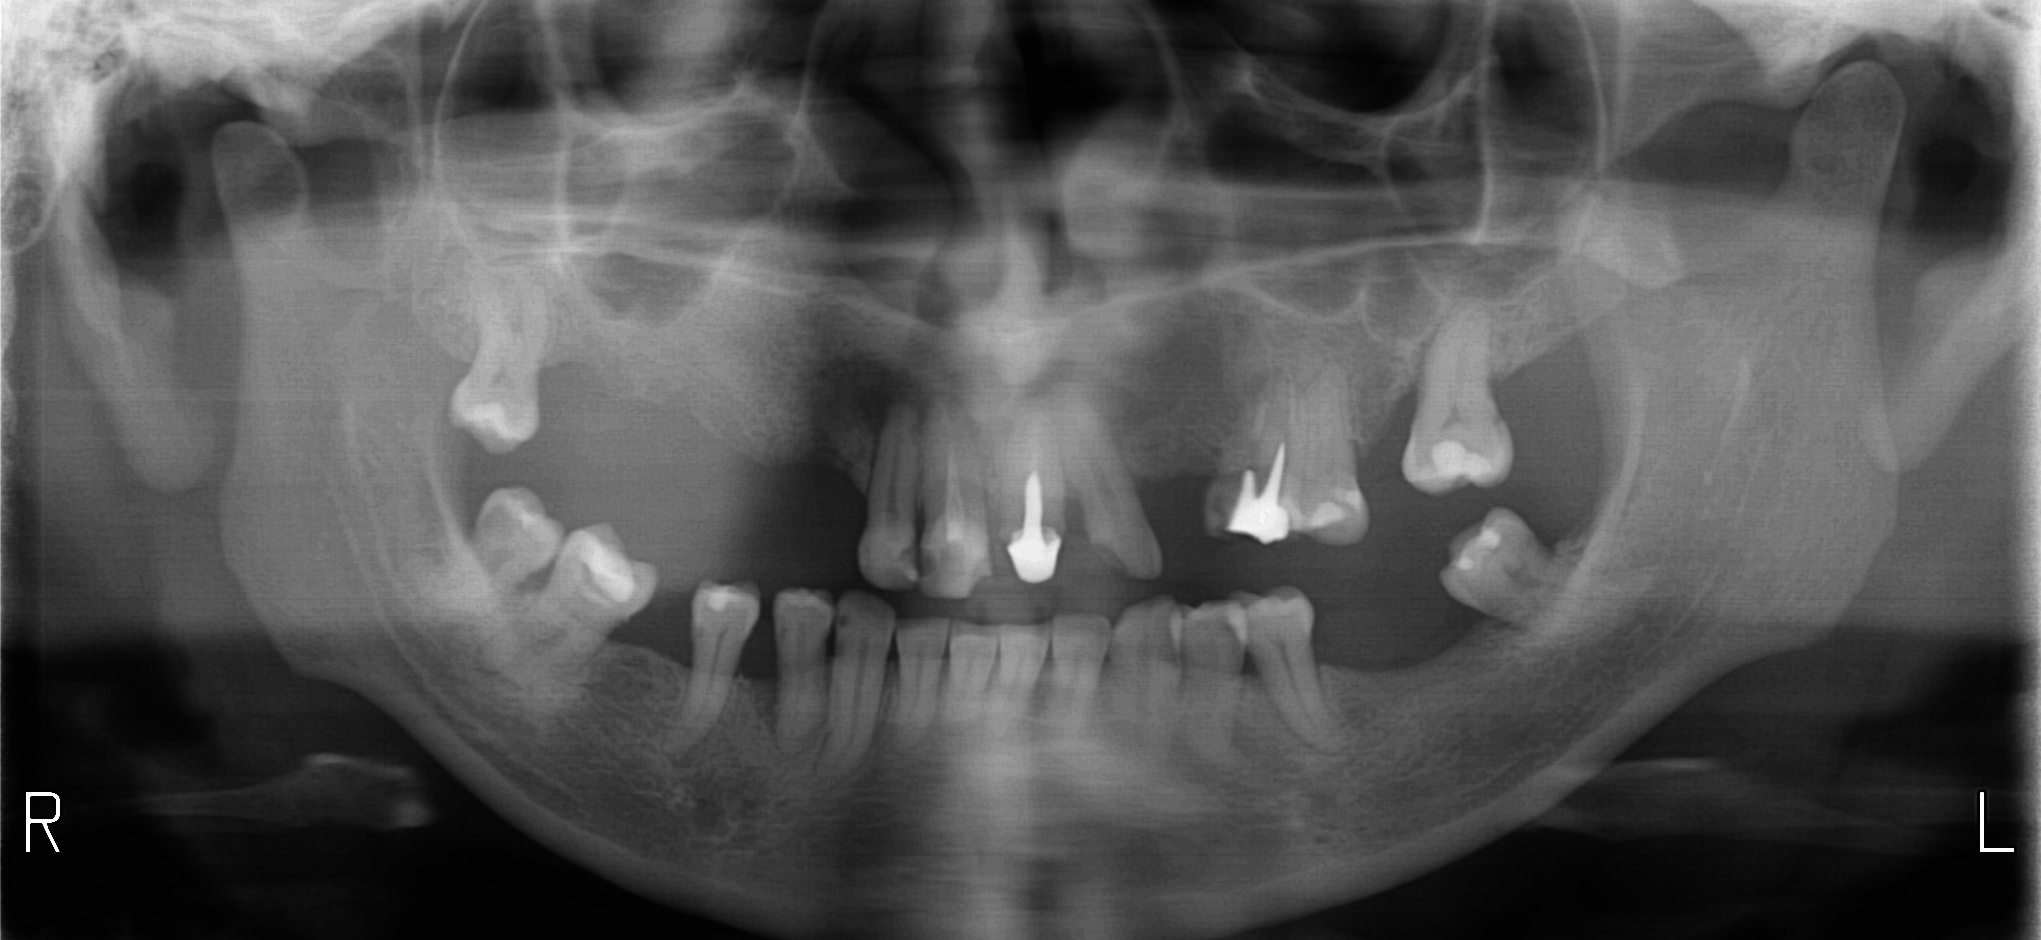cavity: (899, 546, 911, 561), (923, 555, 933, 570)
